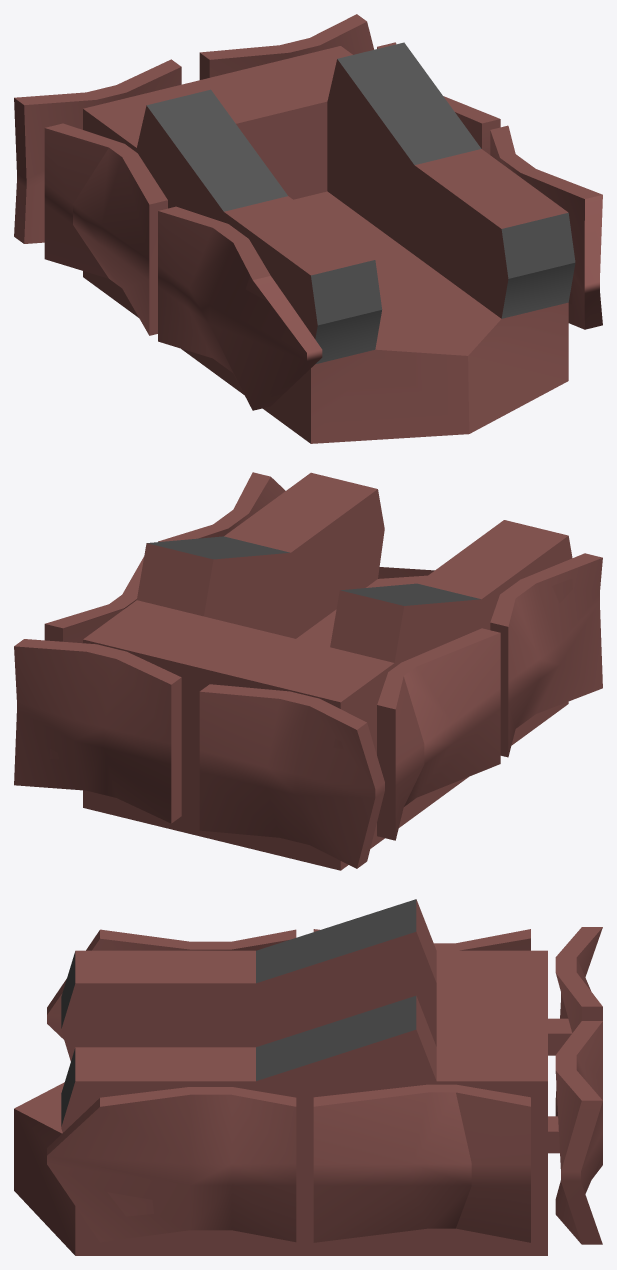
Rendered from tankTurret.fbx.
3 renders of one model, top to bottom at view 1: azimuth 30°, elevation 25°; view 2: azimuth 150°, elevation 25°; view 3: azimuth 270°, elevation 25°, orthographic. The views are drawn at different scales.
Visible parts, largest first — view 1: tankCannon:Turret; view 2: tankCannon:Turret; view 3: tankCannon:Turret.
Part boxes in pixels (box(x1,y1,x2,y2)): tankCannon:Turret: box(14, 14, 602, 443); tankCannon:Turret: box(14, 472, 602, 870); tankCannon:Turret: box(14, 899, 602, 1255).
Bounding box in the file's own units: 2.63 × 1.53 × 3.6.
